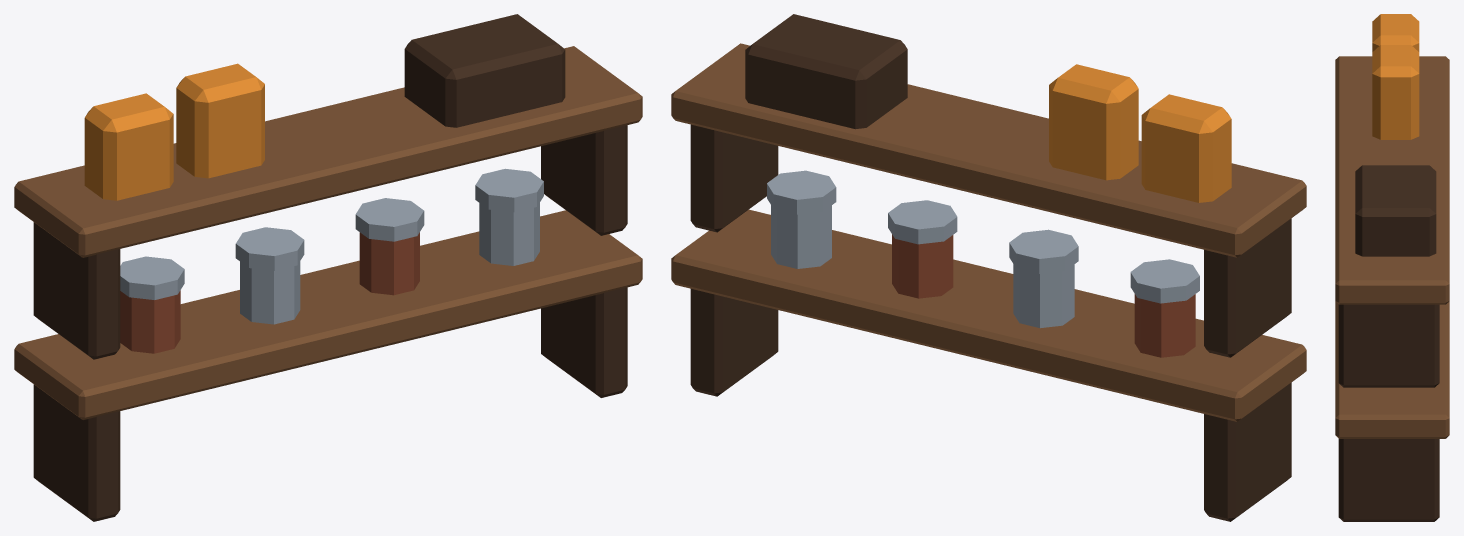
The model's file is Prop_Shelf.fbx.
3 renders of one model, left to right at view 1: azimuth 30°, elevation 25°; view 2: azimuth 150°, elevation 25°; view 3: azimuth 270°, elevation 25°, orthographic. The views are drawn at different scales.
Parts seen in each view (by area): view 1: Prop_Shelf; view 2: Prop_Shelf; view 3: Prop_Shelf.
Part boxes in pixels (x1,y1,x2,y2): Prop_Shelf: [14, 14, 642, 521]; Prop_Shelf: [671, 14, 1306, 521]; Prop_Shelf: [1335, 14, 1449, 521].
Bounding box in the file's own units: 160 × 104 × 34.
